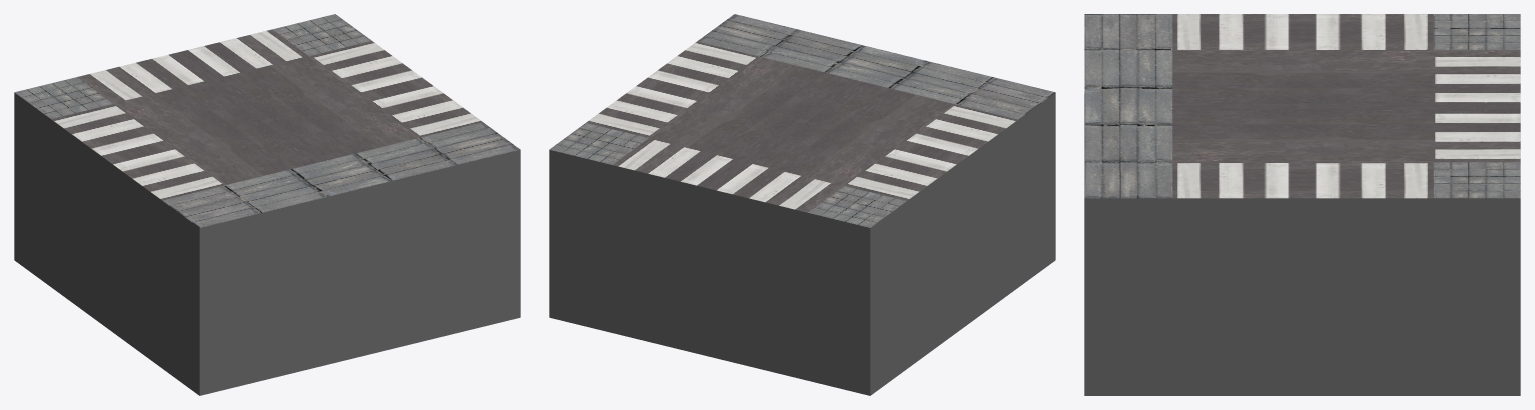
The model's file is Road_3.fbx.
3 renders of one model, left to right at view 1: azimuth 30°, elevation 25°; view 2: azimuth 150°, elevation 25°; view 3: azimuth 270°, elevation 25°, orthographic. The views are drawn at different scales.
Parts seen in each view (by area): view 1: mqo_mesh.003; view 2: mqo_mesh.003; view 3: mqo_mesh.003.
Part boxes in pixels (bbox=[...]): mqo_mesh.003: bbox=[14, 14, 520, 395]; mqo_mesh.003: bbox=[549, 14, 1055, 395]; mqo_mesh.003: bbox=[1084, 14, 1520, 395].
Bounding box in the file's own units: 5000 × 2500 × 5000.
